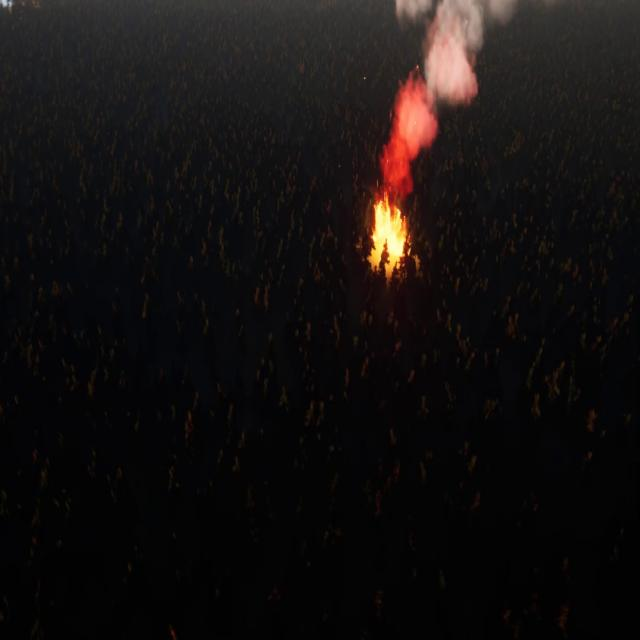fire: (374, 190, 410, 258)
smoke: (380, 0, 517, 192)
